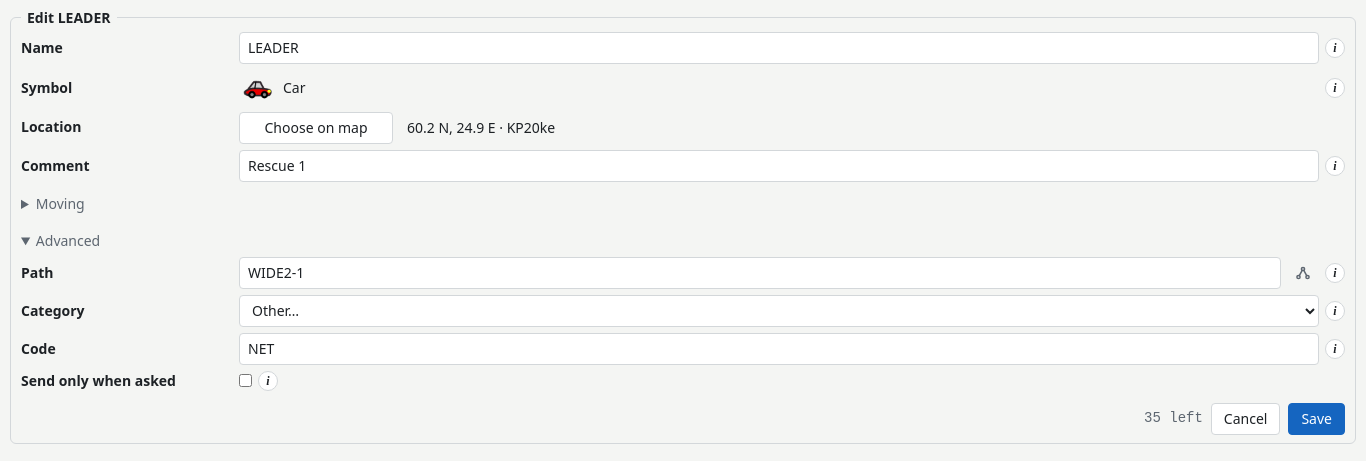
Test: ObjectForm › drops the unsaved changes of an object being changed with Cancel, and leaves the form as a new one
Expected: the field labelled "Name" holds "LEADER", [239, 32, 1319, 64]
Replace the text in the field labelled "Comment" with "changed" at x=779, y=166, box [239, 150, 1319, 182]
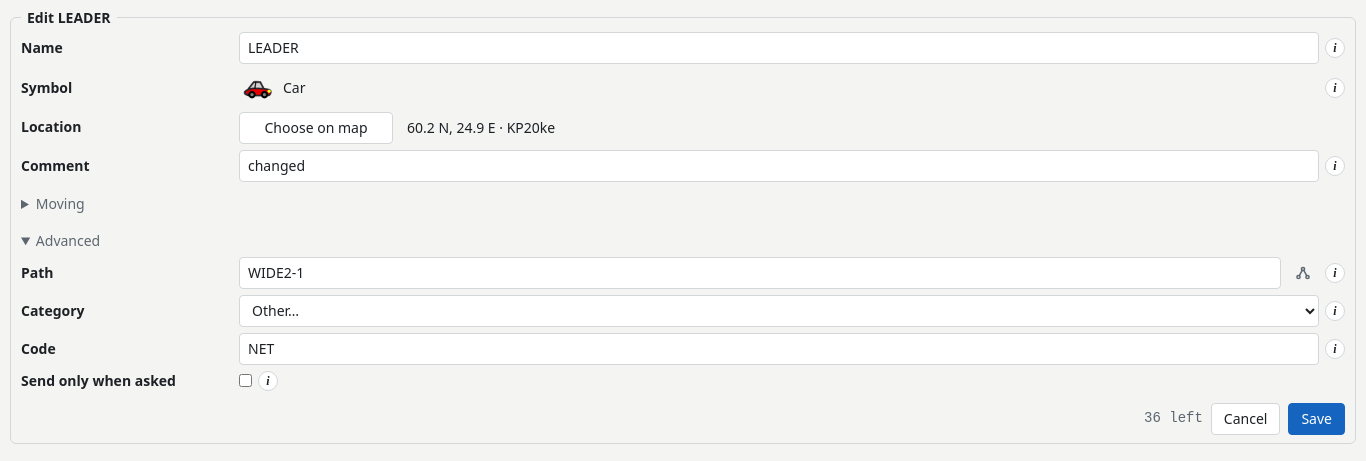
Click the button "Cancel".
click(1246, 419)  # box [1211, 403, 1280, 435]
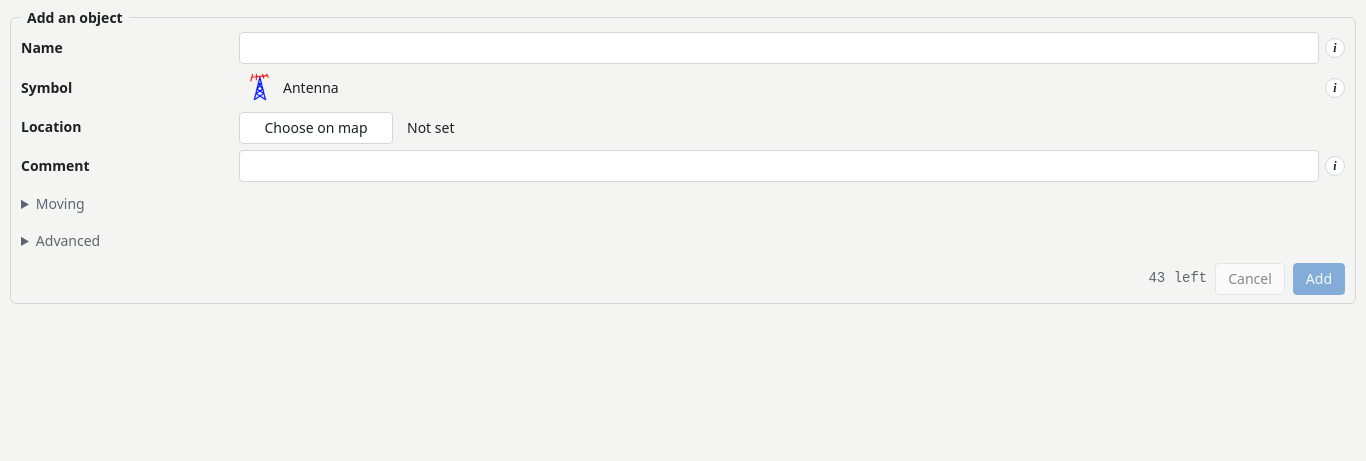
Expected: the field labelled "Name" is empty, [239, 32, 1319, 64]
Expected: the field labelled "Comment" is empty, [239, 150, 1319, 182]
Expected: the button with class "location-place" reads "Not set", [403, 115, 1345, 140]
